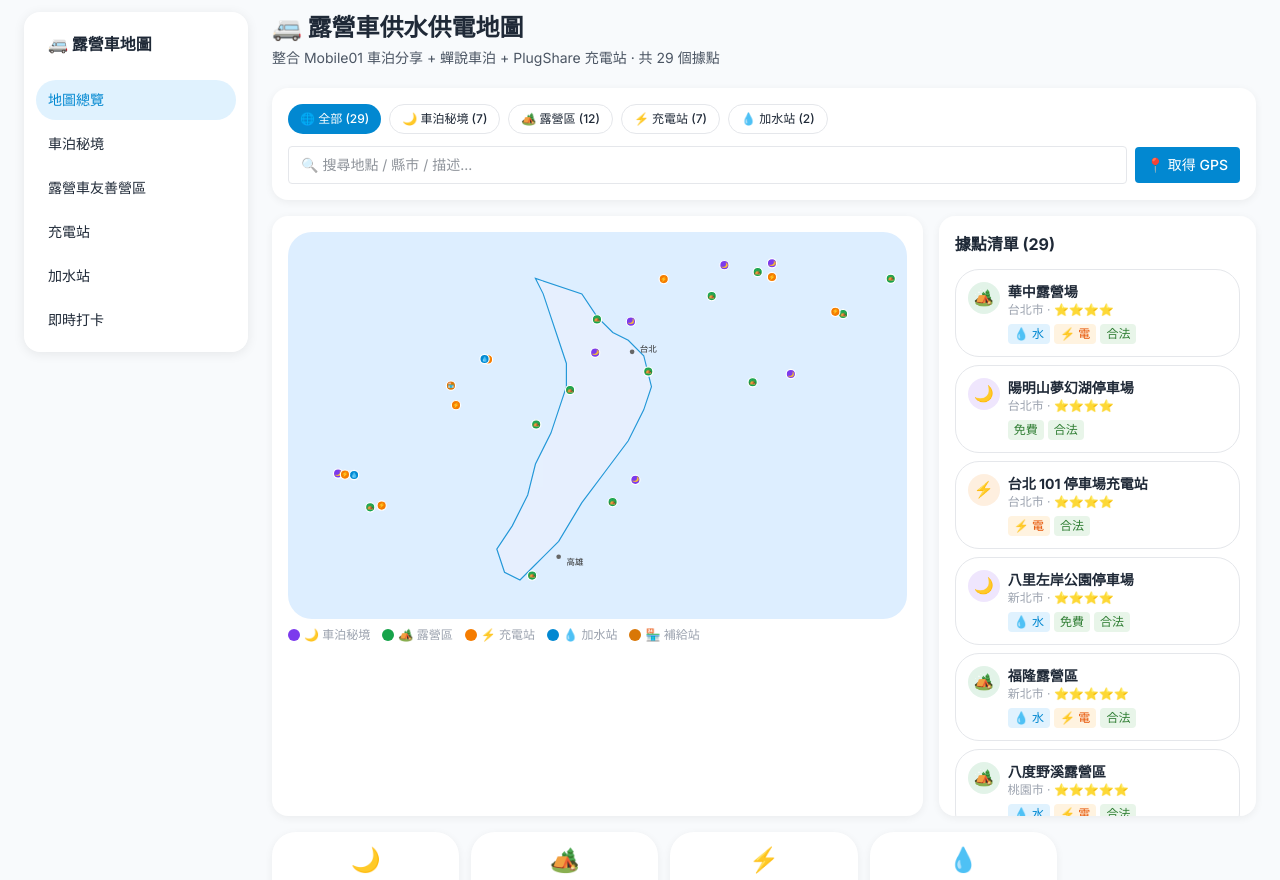
Test case: Sprint 1 — RV Supply Map 核心 › 點 spot card 會顯示詳情
Click the list item with test id "^spot-card-".
click(1097, 313)  # box [955,269,1240,357]
(page scrolled)
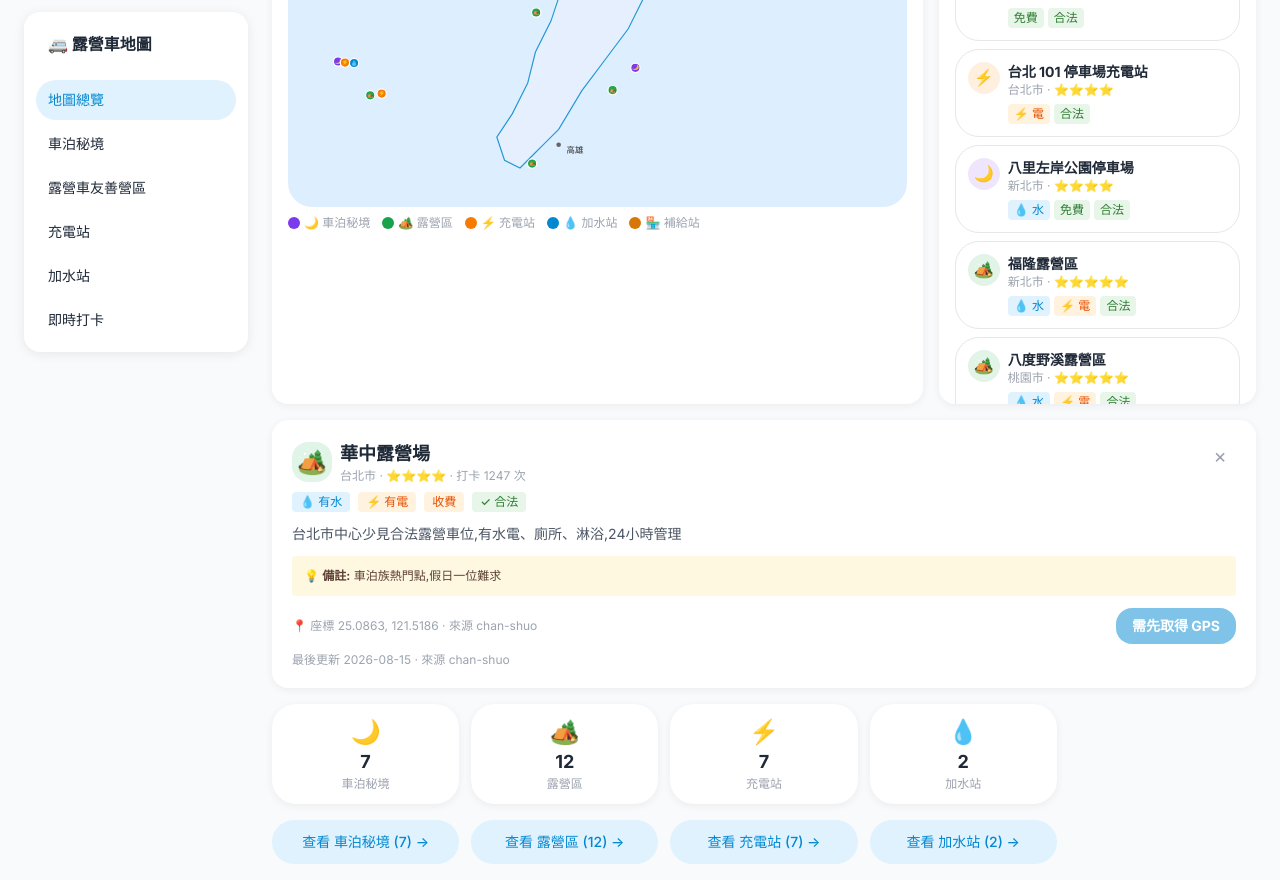
Expected: the element with test id "spot-detail" is shown, [272,420,1256,688]
Expected: the button with test id "checkin-btn" is shown, [1116,608,1236,644]
